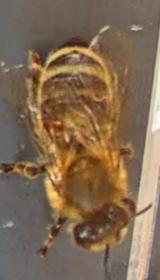varroa_mite: (40, 113, 66, 135)
